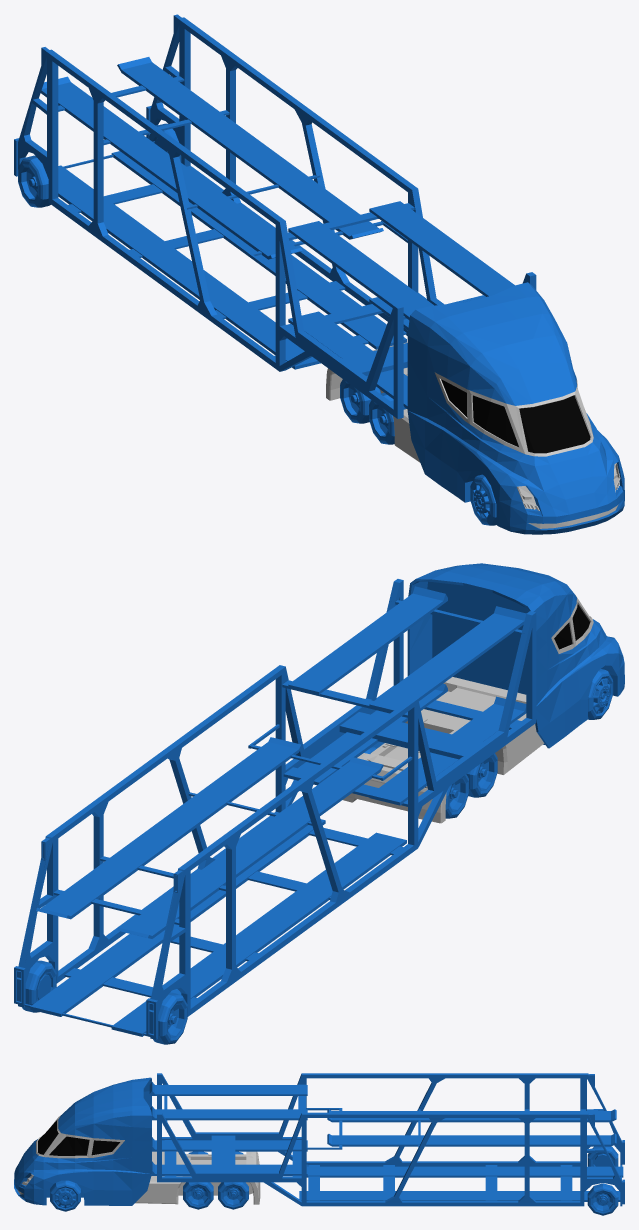
File: SM_car_transporter.fbx
The picture shows the model from 3 angles, top to bottom: view 1: azimuth 30°, elevation 25°; view 2: azimuth 150°, elevation 25°; view 3: azimuth 270°, elevation 25°; orthographic projection. The views are drawn at different scales.
Parts seen in each view (by area): view 1: Symmetry_9, Symmetry_7, Cylinder_1, Cylinder_2, Cylinder_1_2, Cylinder; view 2: Symmetry_9, Symmetry_7, Cylinder_1, Cylinder_2, Cylinder, Cylinder_1_2; view 3: Symmetry_9, Symmetry_7, Cylinder_1, Cylinder, Cylinder_3, Cylinder_1_2.
Boxes of the visible parts, x1=… form: Symmetry_9: x1=14, y1=14, x2=536, y2=418; Symmetry_7: x1=326, y1=282, x2=624, y2=534; Cylinder_1: x1=18, y1=123, x2=181, y2=207; Cylinder_2: x1=470, y1=474, x2=496, y2=525; Cylinder_1_2: x1=340, y1=379, x2=380, y2=423; Cylinder: x1=369, y1=392, x2=394, y2=444; Symmetry_9: x1=14, y1=579, x2=536, y2=1039; Symmetry_7: x1=343, y1=563, x2=624, y2=823; Cylinder_1: x1=22, y1=960, x2=187, y2=1044; Cylinder_2: x1=588, y1=669, x2=613, y2=719; Cylinder: x1=372, y1=741, x2=497, y2=797; Cylinder_1_2: x1=364, y1=747, x2=468, y2=818; Symmetry_9: x1=149, y1=1073, x2=624, y2=1206; Symmetry_7: x1=14, y1=1077, x2=260, y2=1205; Cylinder_1: x1=587, y1=1146, x2=618, y2=1215; Cylinder: x1=183, y1=1151, x2=213, y2=1209; Cylinder_3: x1=50, y1=1180, x2=80, y2=1211; Cylinder_1_2: x1=218, y1=1151, x2=248, y2=1209.
Bounding box in the file's own units: 324 × 345 × 1887.
